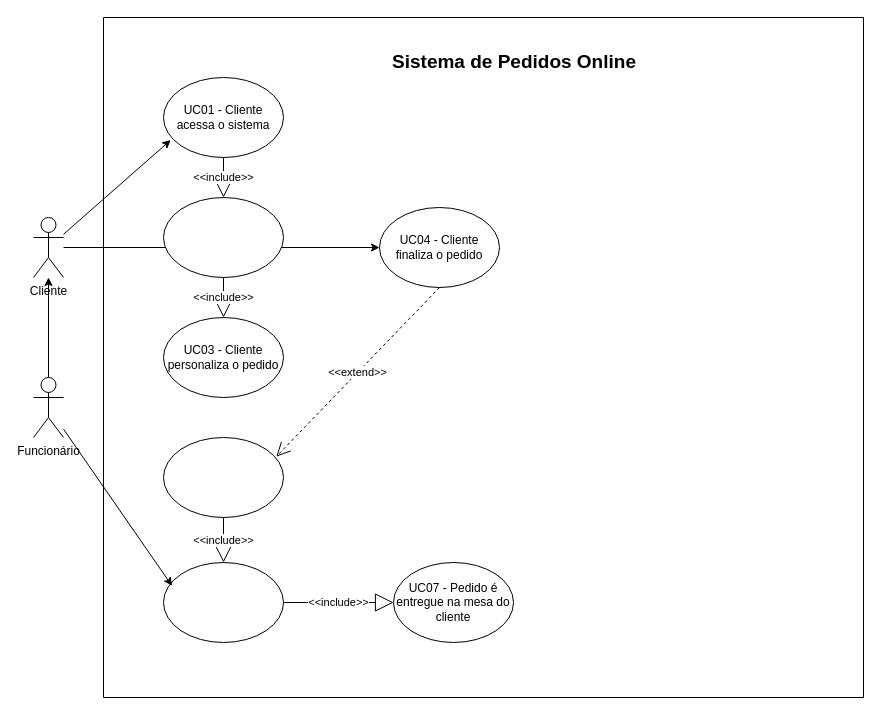
This 881x715 diagram has some shape labels left out. Here are the shapes that lost their labels. From the top down, the centre of each, then its label:
At point (223, 237): "UC02 - Cliente seleciona itens para o carrinho".
At point (223, 477): "UC05 - Sistema processa o pedido".
At point (223, 602): "UC06 - Pedido é enviado para a cozinha".
